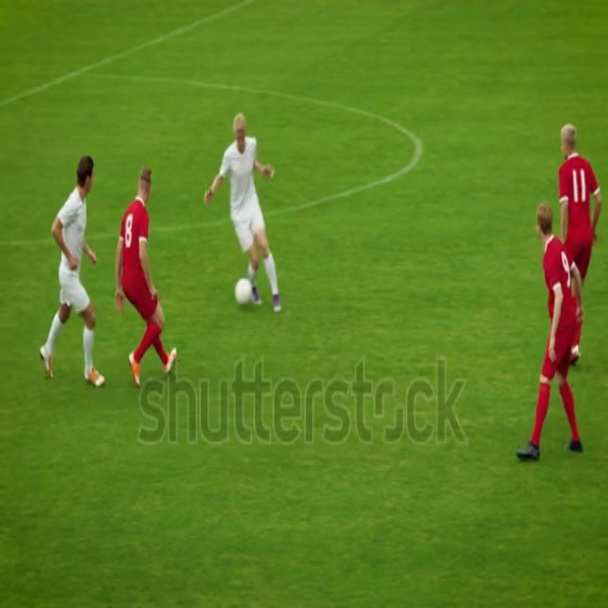ball: (237, 275, 254, 310)
